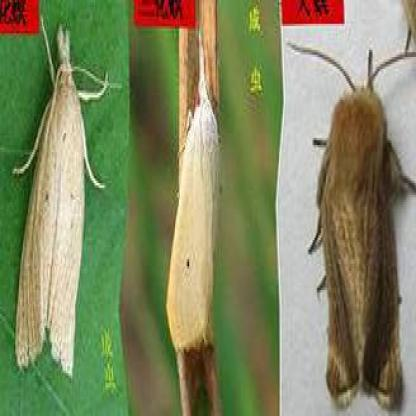stem-borer: (289, 31, 416, 411), (10, 20, 124, 382), (166, 34, 222, 353)
